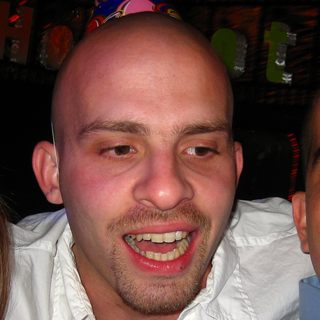eye: (92, 140, 143, 162), (176, 139, 221, 162)
